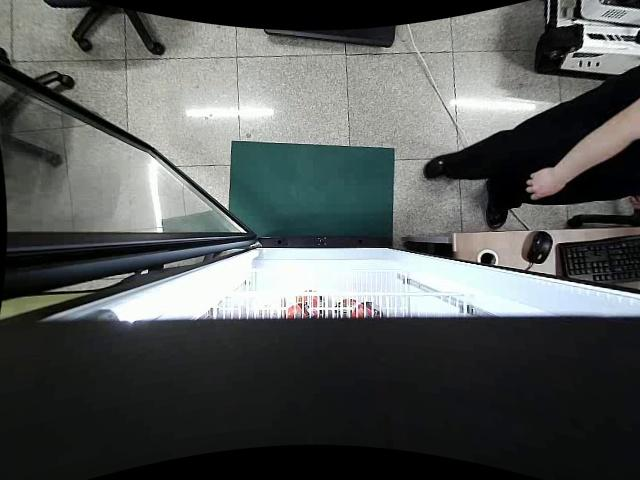00_hand: (525, 165, 565, 203)
